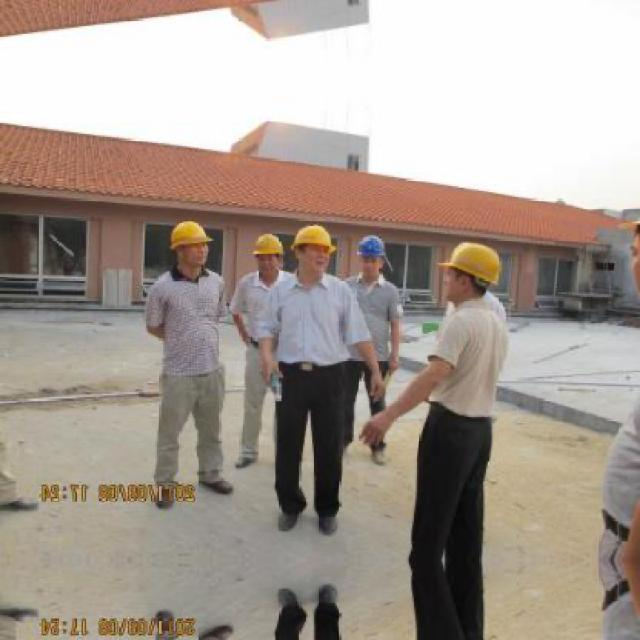helmet: (437, 237, 505, 305), (292, 220, 336, 278), (168, 218, 209, 271), (252, 231, 288, 278), (355, 234, 388, 278)
